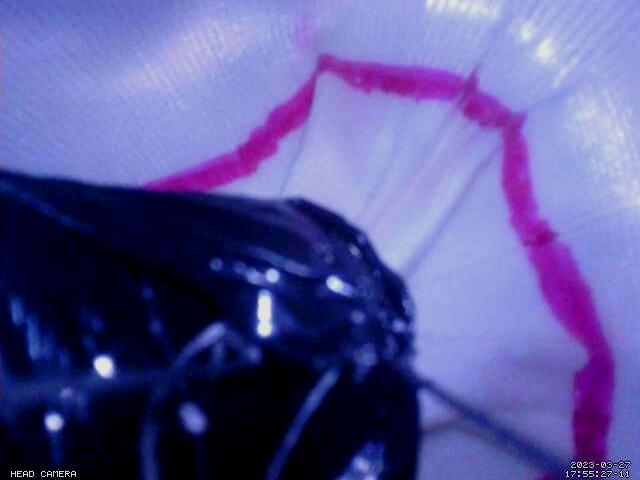red-circle: (141, 52, 618, 480)
